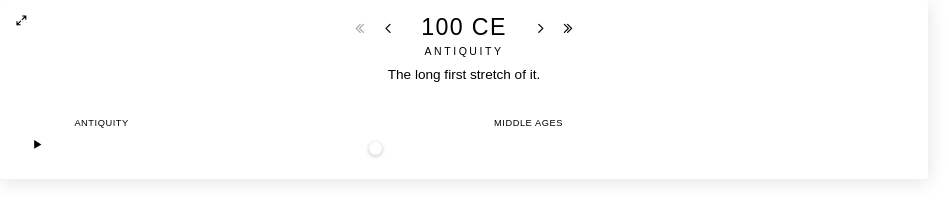
Test: Timeline expand button and a steady ruler › offers collapse whenever it is expanded, however it opened
The width and height of the screenshot is (949, 208).
Press the mouse on the slider with test id "timeline-track": (376, 148) [369,142,382,155]
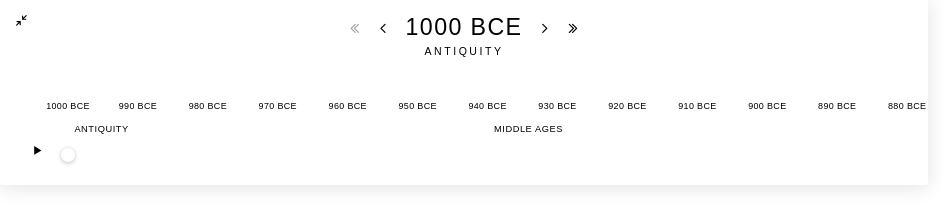
expect the slider with test id "detail-track" is shown: met, box [46,101,926,111]
expect the button named "Collapse timeline" is expanded: met
Click the button named "Collapse timeline": (22, 21) [10,9,34,33]
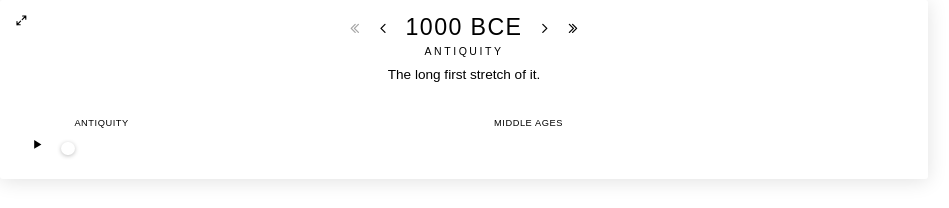
expect the slider with test id "detail-track" is gone: met
